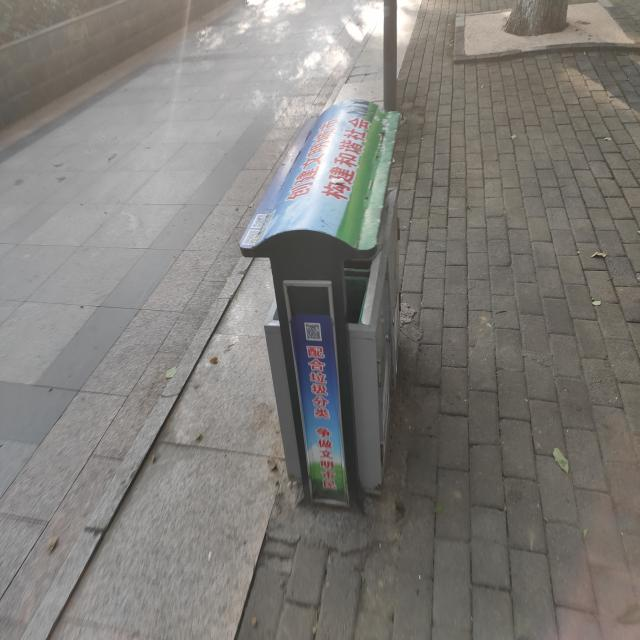ash bin: (233, 101, 405, 517)
pole: (375, 2, 403, 106)
